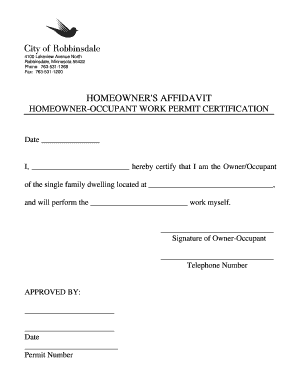textline: (146, 177, 276, 192), (21, 300, 118, 319), (157, 221, 277, 236), (157, 247, 274, 262), (88, 192, 188, 209), (21, 318, 120, 335), (30, 158, 130, 174), (21, 339, 120, 353), (39, 131, 102, 147)
